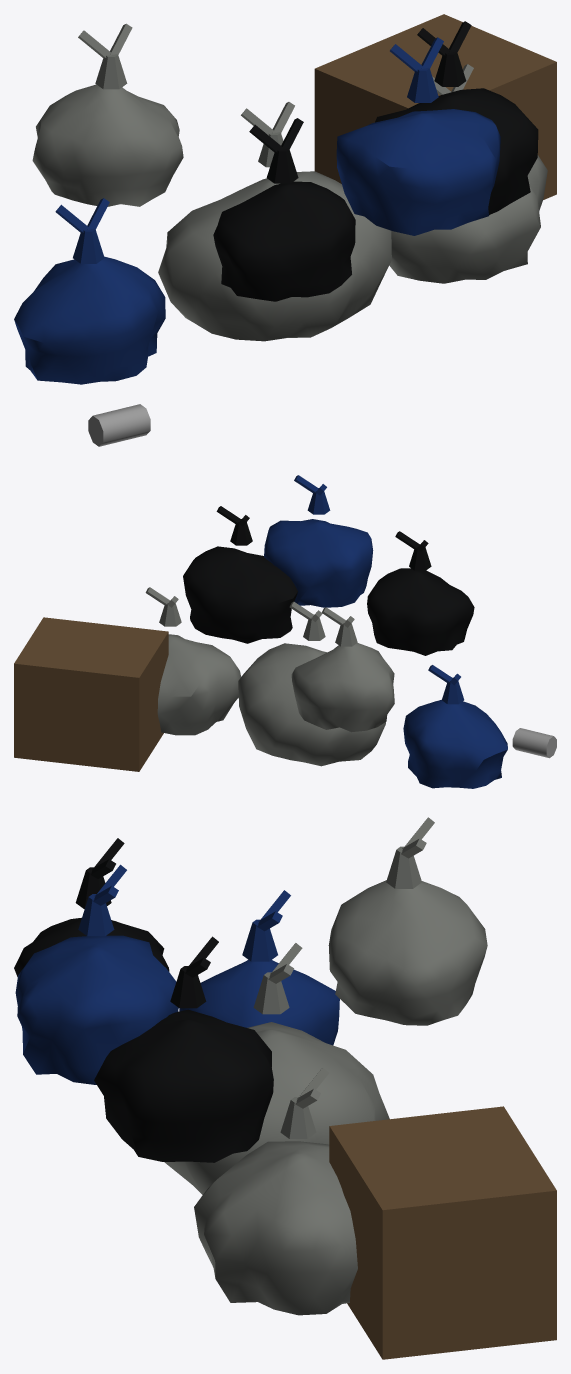
The model's file is St_TrashBags_B.fbx.
3 views of the same model, one above another, from view 1: azimuth 30°, elevation 25°; view 2: azimuth 150°, elevation 25°; view 3: azimuth 270°, elevation 25° (orthographic). The views are drawn at different scales.
Parts seen in each view (by area): view 1: St_TrashBags_B_LOD0; view 2: St_TrashBags_B_LOD0; view 3: St_TrashBags_B_LOD0.
Part boxes in pixels (left/top/right/bottom): St_TrashBags_B_LOD0: left=14, top=14, right=556, bottom=446; St_TrashBags_B_LOD0: left=14, top=475, right=556, bottom=788; St_TrashBags_B_LOD0: left=14, top=817, right=556, bottom=1359.
Size of what is drawn, in the model's own units: 1.5 by 0.765 by 1.05.
